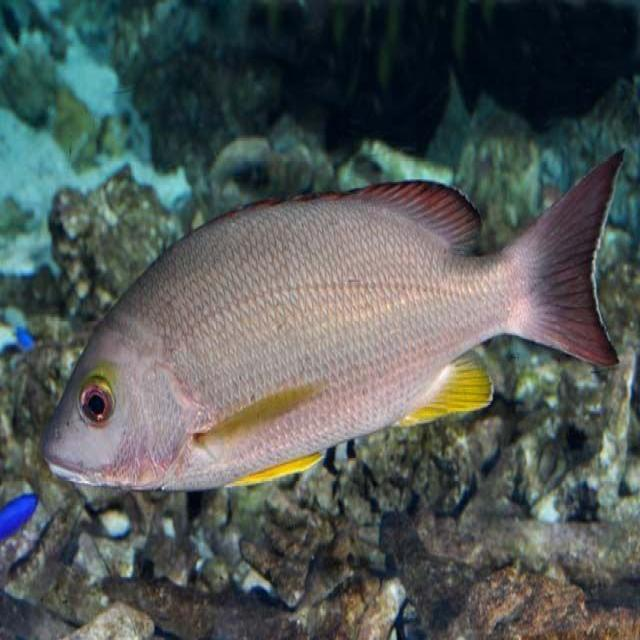ikan: (39, 145, 625, 495)
